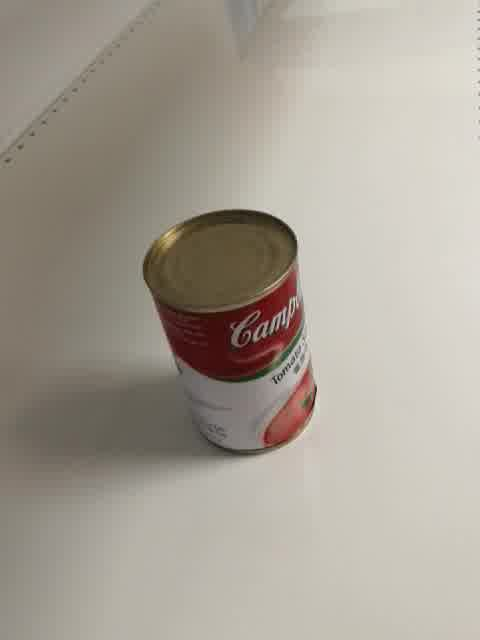tomatosoup: (141, 208, 316, 454)
